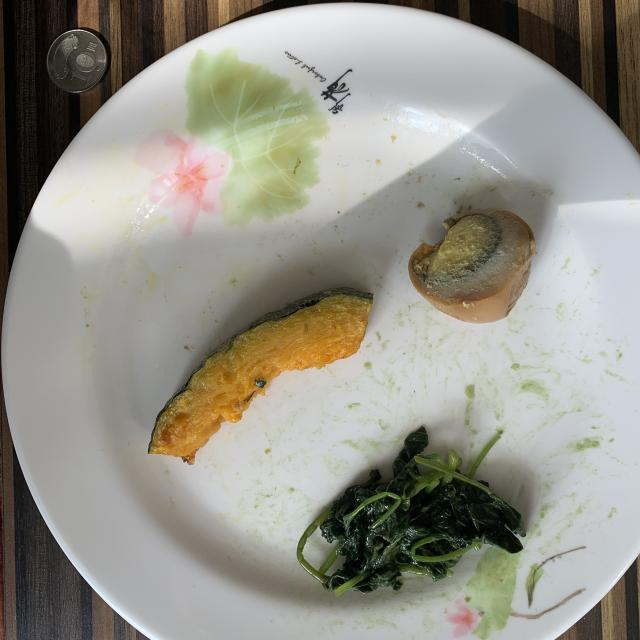coin: (46, 30, 108, 92)
pumpkin: (149, 288, 372, 464)
soy egg: (409, 208, 536, 322)
sweet potato leaves: (298, 428, 525, 595)
